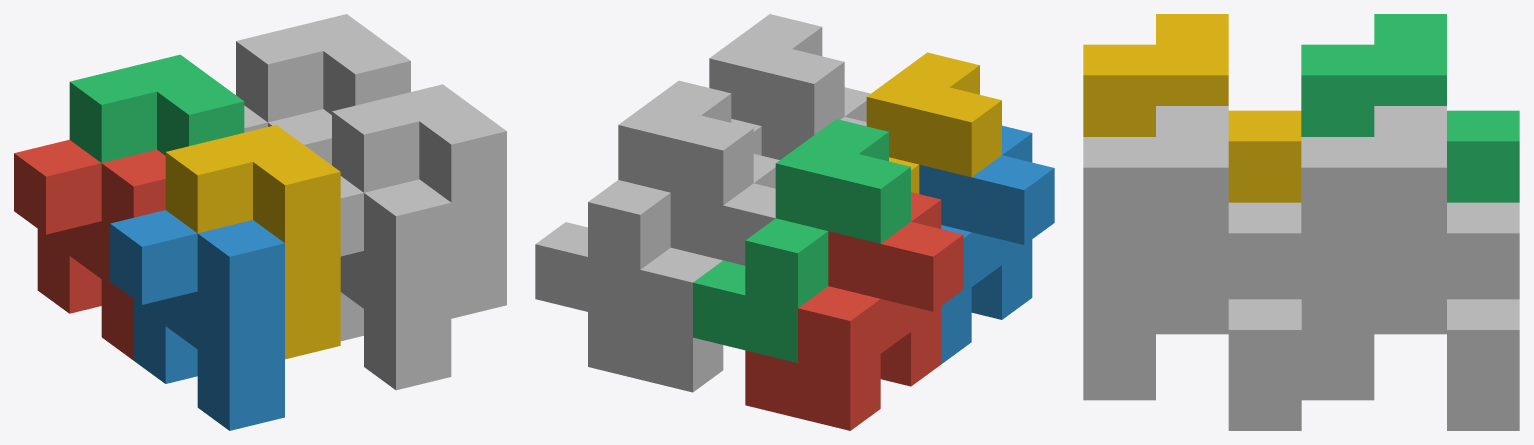
File: tiling.obj
The picture shows the model from 3 angles, left to right: view 1: azimuth 30°, elevation 25°; view 2: azimuth 150°, elevation 25°; view 3: azimuth 270°, elevation 25°; orthographic projection. The views are drawn at different scales.
Parts seen in each view (by area): view 1: copy_1_domain_2, copy_1_domain_4, copy_1_domain_8, copy_1_domain_6, copy_1_domain_1, copy_1_domain_3, copy_1_domain_7, copy_1_domain_5; view 2: copy_1_domain_1, copy_1_domain_7, copy_1_domain_3, copy_1_domain_5, copy_1_domain_2, copy_1_domain_4, copy_1_domain_8, copy_1_domain_6; view 3: copy_1_domain_8, copy_1_domain_7, copy_1_domain_4, copy_1_domain_3, copy_1_domain_6, copy_1_domain_5.
Part boxes in pixels (x1,y1,x2,y2): copy_1_domain_2: [110, 210, 284, 430]; copy_1_domain_4: [165, 125, 340, 359]; copy_1_domain_8: [332, 84, 506, 318]; copy_1_domain_6: [340, 176, 451, 390]; copy_1_domain_1: [14, 139, 165, 360]; copy_1_domain_3: [69, 54, 244, 162]; copy_1_domain_7: [236, 14, 410, 122]; copy_1_domain_5: [244, 105, 331, 164]; copy_1_domain_1: [745, 192, 963, 430]; copy_1_domain_7: [535, 80, 753, 324]; copy_1_domain_3: [693, 119, 910, 362]; copy_1_domain_5: [588, 154, 779, 392]; copy_1_domain_2: [919, 125, 1054, 363]; copy_1_domain_4: [866, 52, 1001, 193]; copy_1_domain_8: [709, 14, 844, 155]; copy_1_domain_6: [761, 87, 870, 159]; copy_1_domain_8: [1083, 106, 1301, 395]; copy_1_domain_7: [1301, 106, 1519, 395]; copy_1_domain_4: [1083, 14, 1301, 202]; copy_1_domain_3: [1301, 14, 1519, 202]; copy_1_domain_6: [1083, 299, 1301, 430]; copy_1_domain_5: [1301, 299, 1519, 430].
Bounding box in the file's own units: 7 × 4 × 6.
